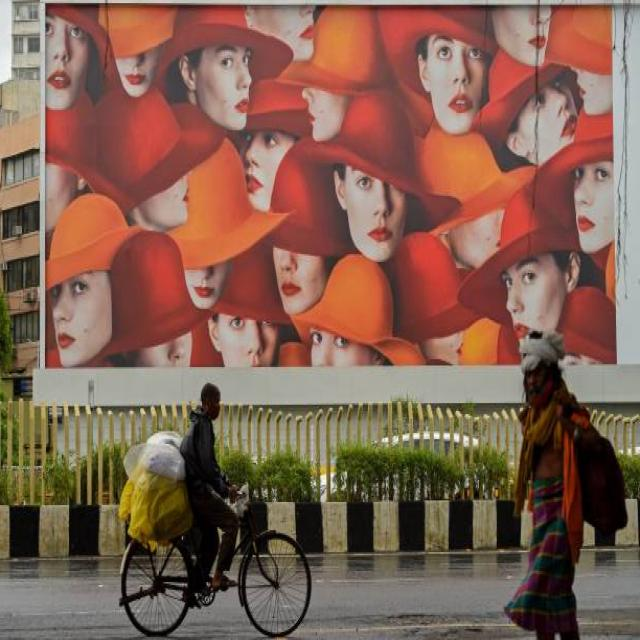Werbetafel frei: (31, 2, 640, 403)
